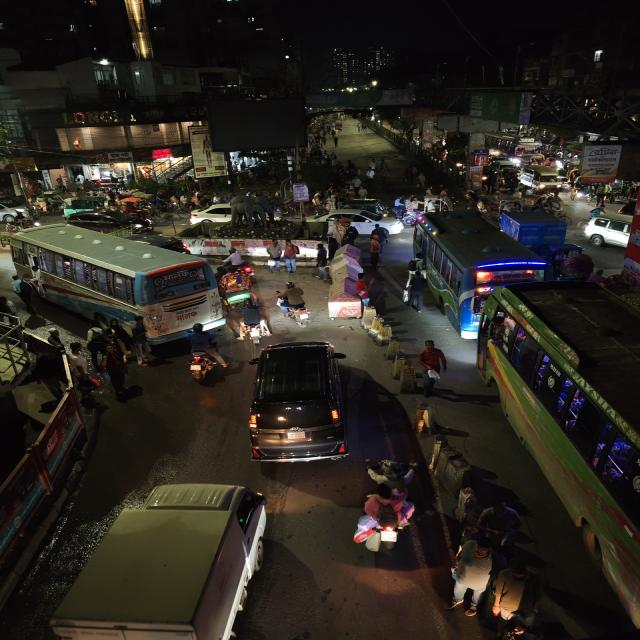bicycle: (276, 282, 314, 327)
bus: (480, 283, 640, 636), (7, 228, 224, 336), (410, 210, 550, 336)
car: (244, 339, 352, 467), (582, 206, 639, 252), (330, 208, 393, 240), (79, 213, 152, 230), (187, 202, 238, 224)
human_hauler: (522, 162, 563, 194)
motorcycle: (350, 460, 418, 550), (180, 330, 223, 384), (275, 282, 314, 328)
pedestrian: (481, 560, 553, 638), (413, 338, 448, 394), (311, 241, 333, 280), (352, 275, 377, 306), (279, 240, 300, 276), (265, 240, 285, 274)
rickshaw: (216, 260, 258, 296), (555, 247, 598, 281), (570, 176, 600, 202)
truck: (39, 480, 275, 640), (412, 209, 550, 335), (502, 208, 572, 247)
